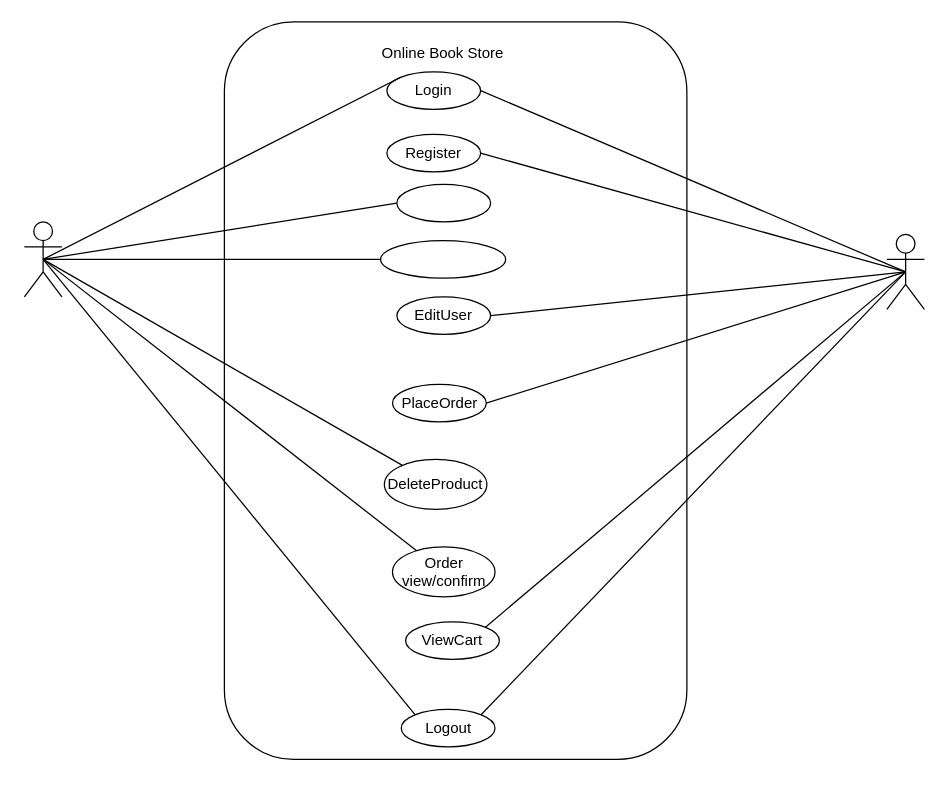
This 946x791 diagram has some shape labels left out. The centre of each missing label's shape, as x and y in pixels:
AddBook: [443,202]
Admin: [42,259]
UpdateBook: [442,258]
User: [905,271]
